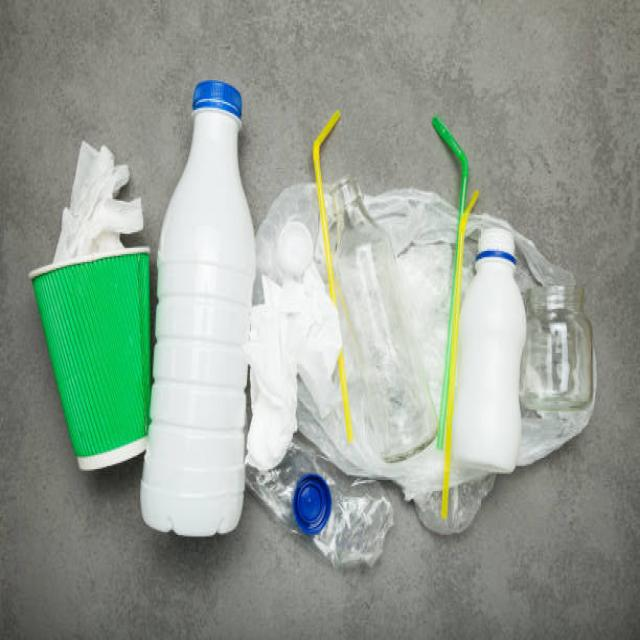cardboard: (32, 258, 157, 464)
glass: (334, 97, 437, 518), (532, 254, 606, 435)
plastic: (173, 75, 334, 606), (453, 193, 528, 489)
